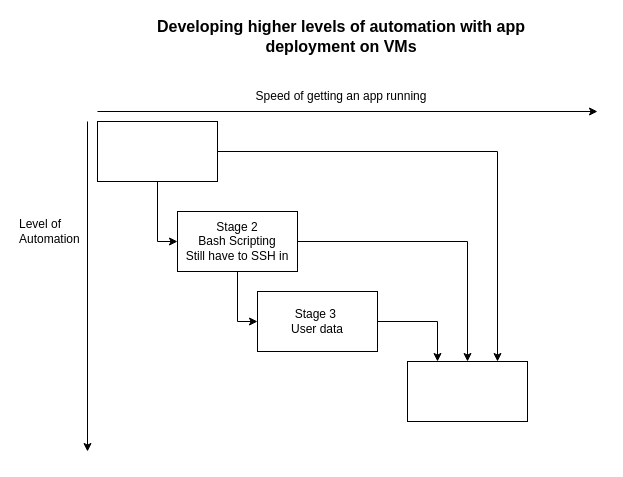
The diagram is 623 pixels wide and 477 high, and some of its shapes have lost their labels. The centre of each missing label's shape, as x and y in pixels:
"Stage 1 Manual running Have to SSH in" goes at (x=157, y=151).
"Stage 4 Using AMIs + a little bit of user data to run the app" goes at (x=467, y=391).
